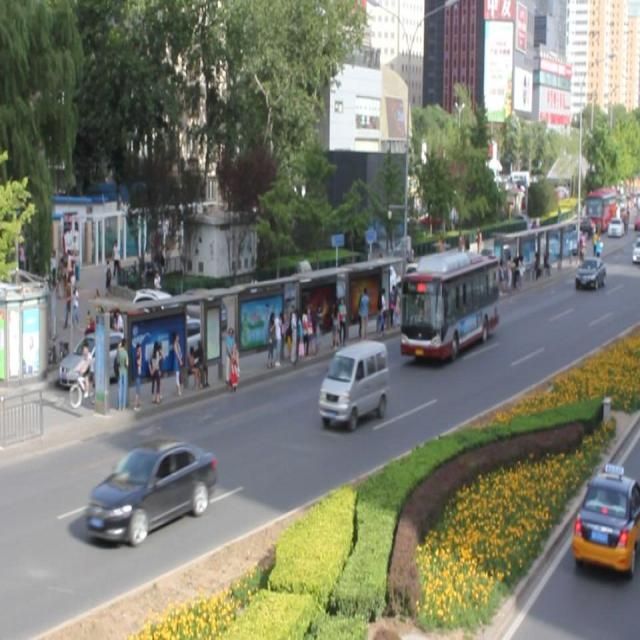car: (87, 438, 216, 542), (573, 255, 604, 289)
truck: (317, 338, 388, 424)
van: (401, 249, 498, 357)
